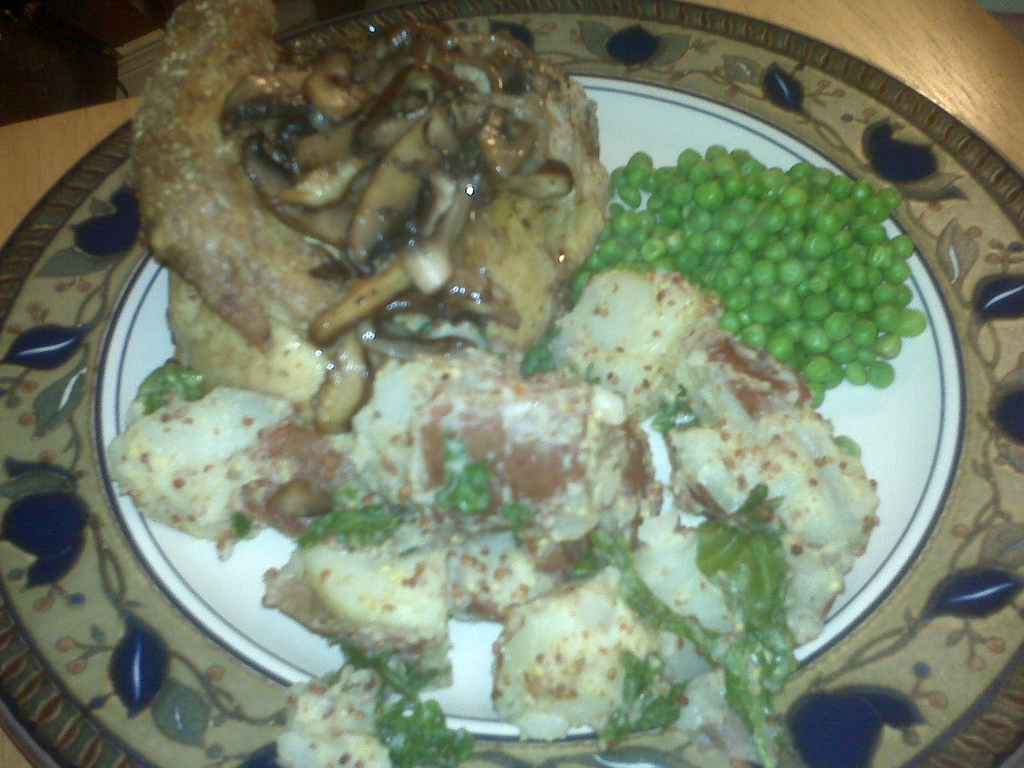boiled peas: (587, 141, 942, 399)
